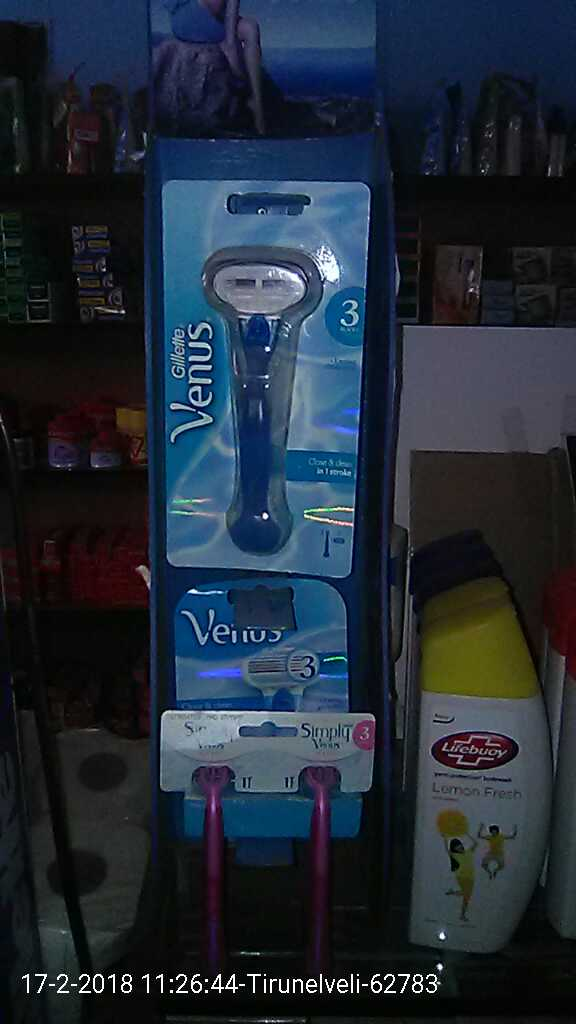venus: (156, 161, 353, 566), (177, 588, 357, 851)
